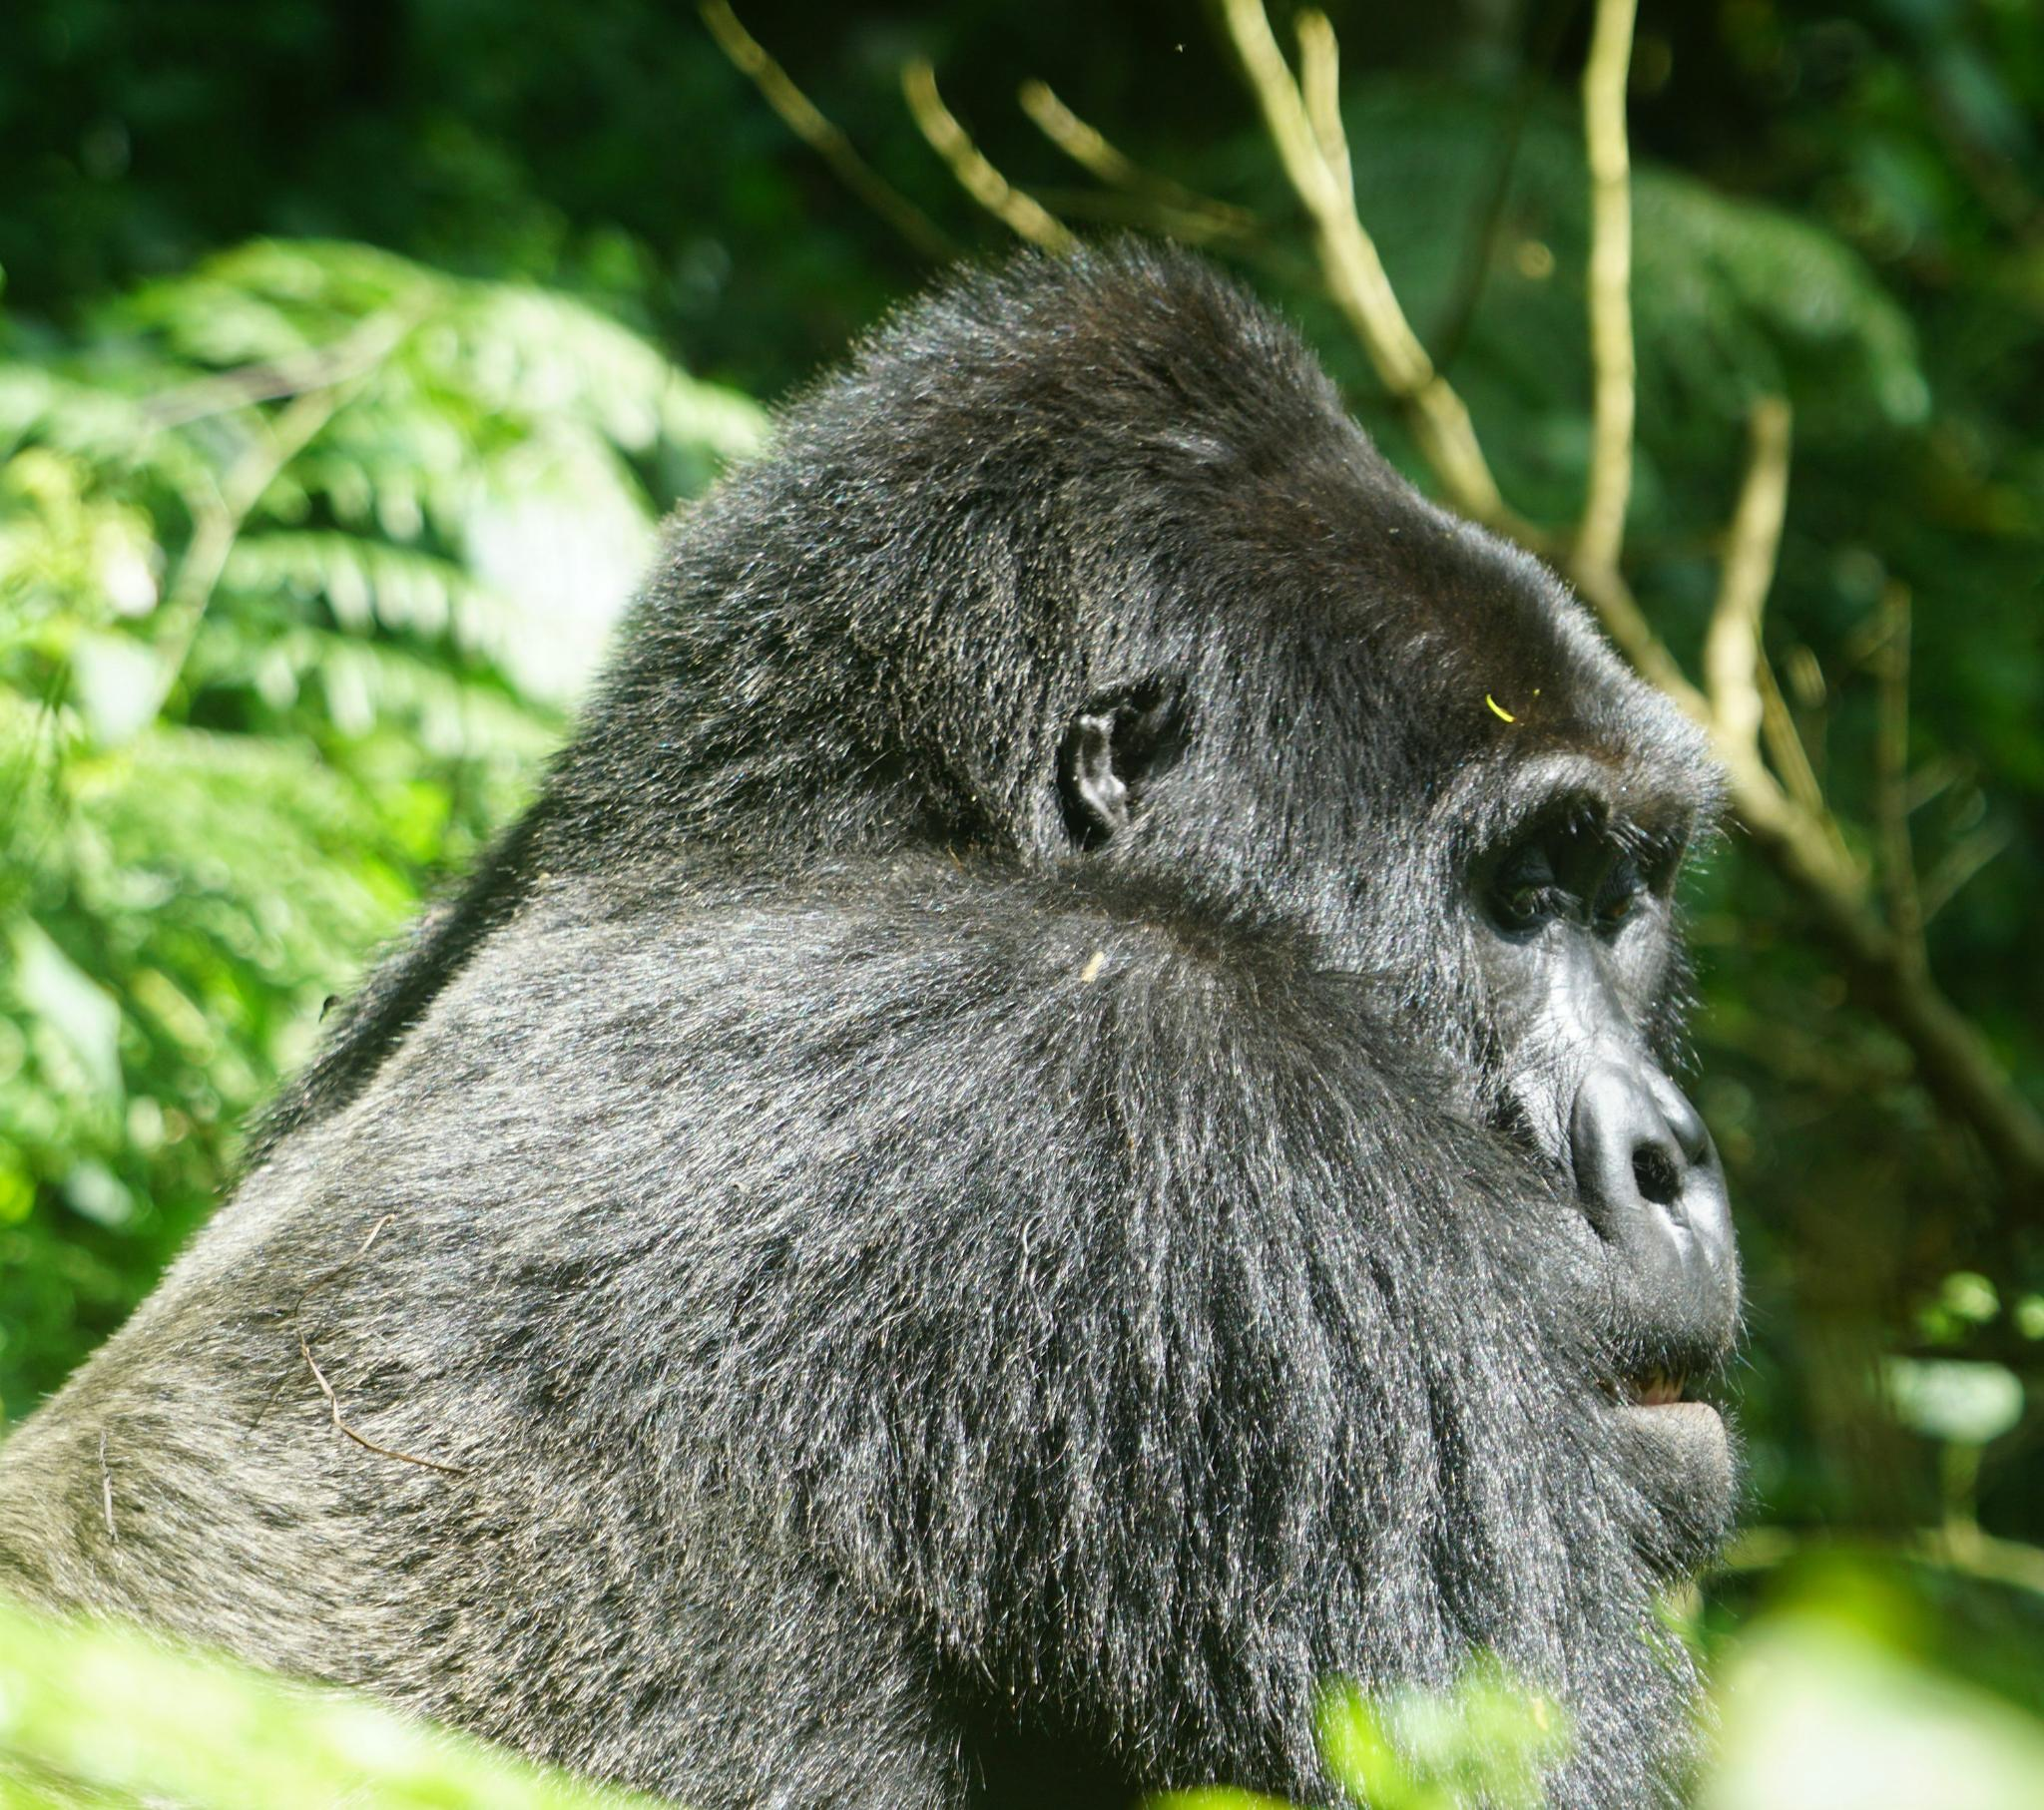gorille_Autres: (0, 40, 1934, 1810)
